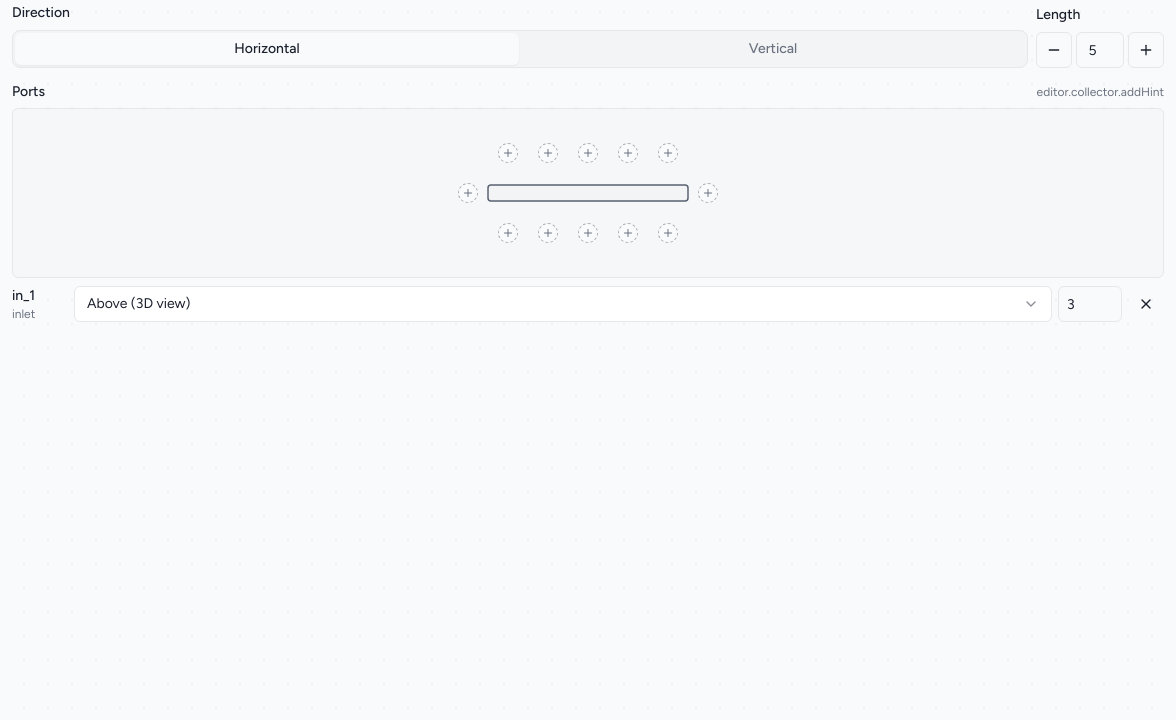
Test: CollectorEditor › still names the vertical face a port already has on a flat plate
Step 1. Click the dropdown named "Face of port in_1" → (139, 304), box x1=74 y1=286 x2=1052 y2=322
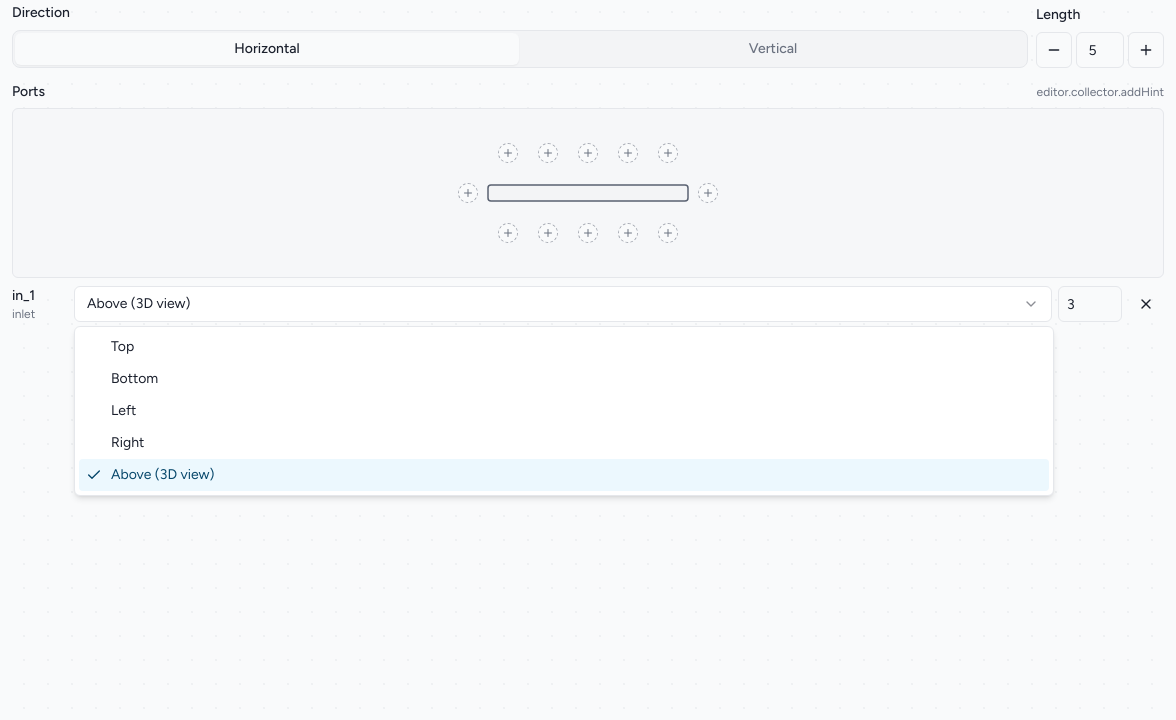
expect the options read "Top", "Bottom", "Left", "Right", "Above (3D view)", in this order: met, box x1=111 y1=338 x2=134 y2=355; x1=111 y1=370 x2=158 y2=387; x1=111 y1=402 x2=136 y2=419; x1=111 y1=434 x2=144 y2=451; x1=79 y1=459 x2=1049 y2=491
